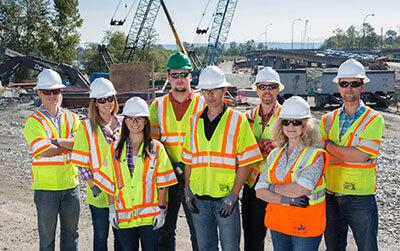helmet: (333, 60, 370, 84), (279, 97, 314, 121), (199, 67, 233, 91), (253, 67, 285, 91), (119, 98, 152, 119), (35, 70, 67, 91), (89, 78, 117, 100), (168, 53, 196, 74)
